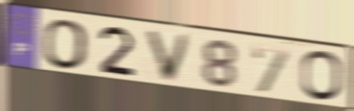2: (97, 25, 137, 79)
7: (250, 42, 292, 96)
8: (200, 38, 239, 90)
O: (42, 18, 90, 72), (299, 49, 344, 104)
V: (142, 27, 194, 85)
